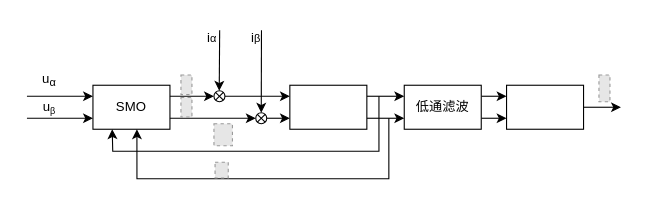
Image size: 649x207. Some labels were removed from this diagram. Grey dashed boxes stand in for pictures. The box of each missing label's shape, as (x1, y1, x2, y2) in pixels:
Sgn: (289, 84, 367, 129)
角度补偿: (505, 84, 584, 129)
